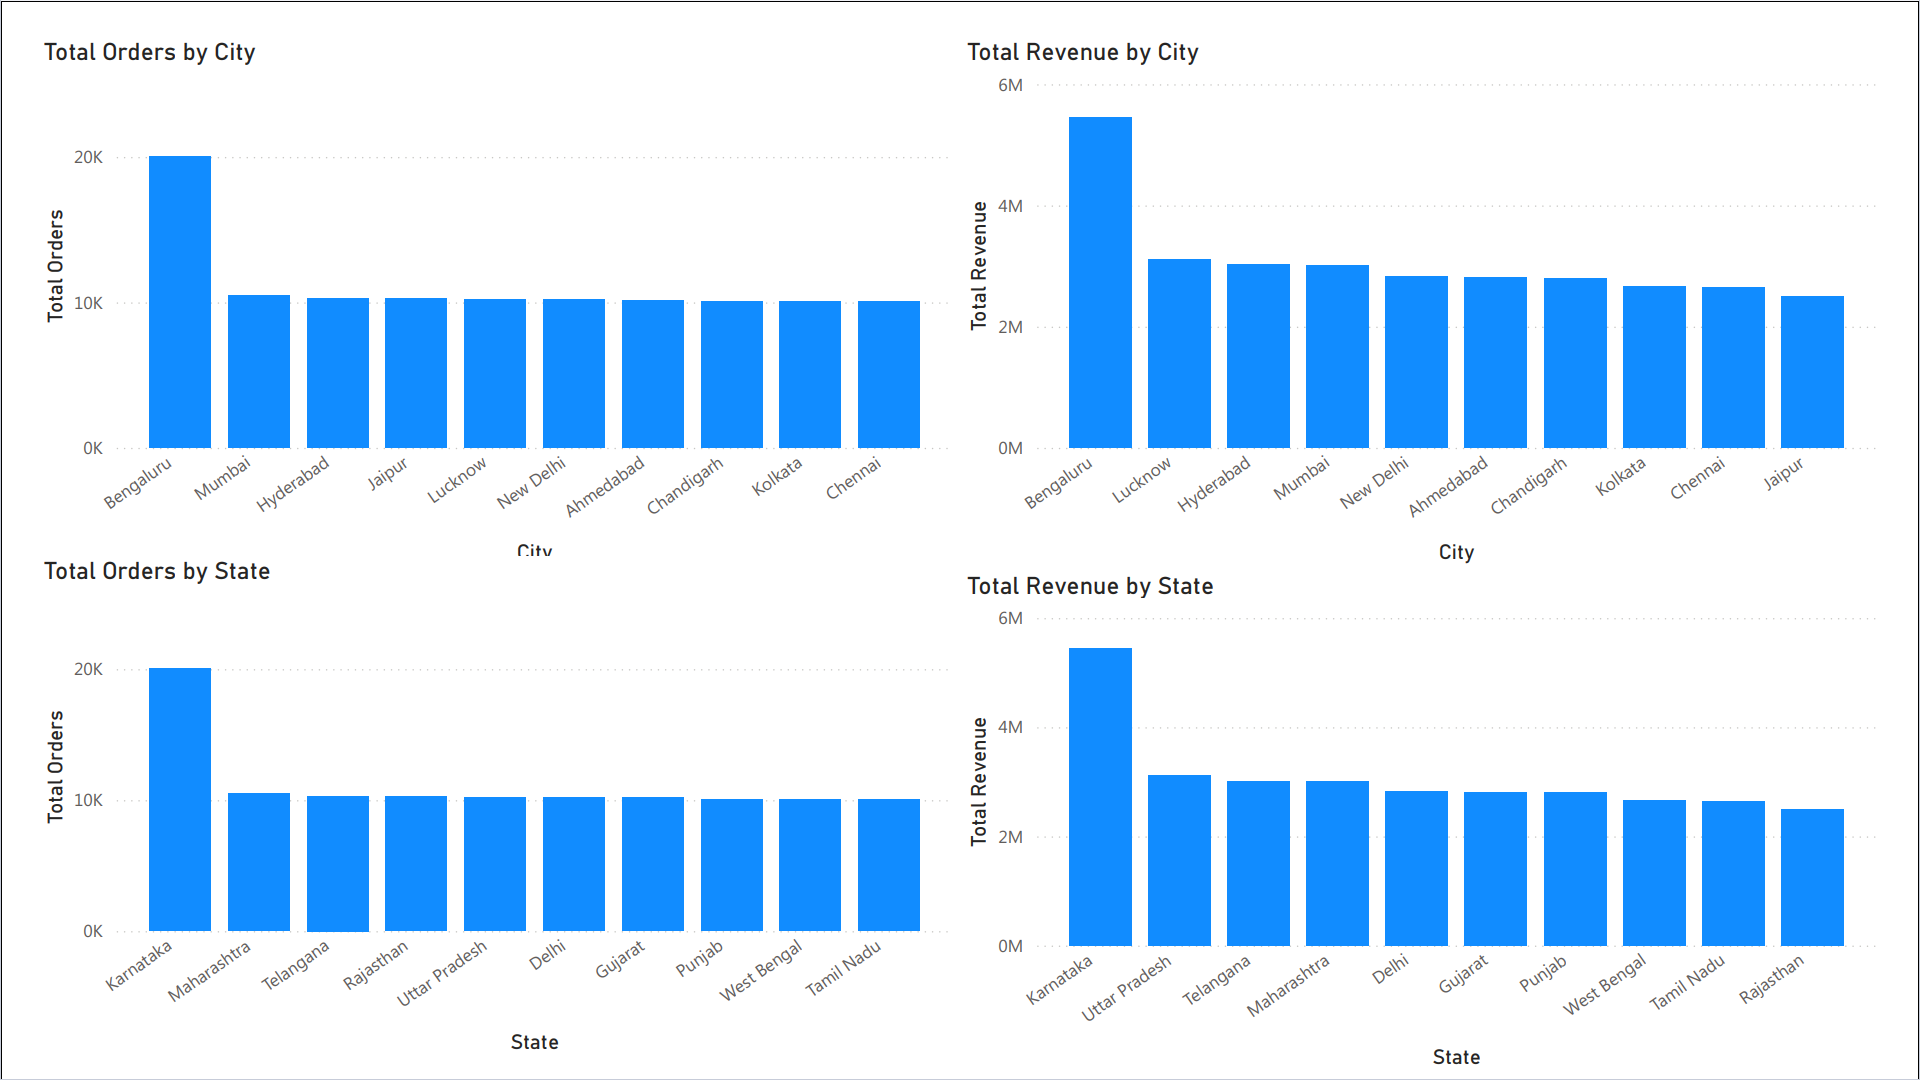

The page's visual inventory and layout, read from the dashboard file:
{"tool":"powerbi","page":{"name":"Location Analysis","canvas":[1280,720],"ordinal":1},"visuals":[{"type":"clusteredColumnChart","fields":{"Category":["City_wise_trends.city"],"Y":["Sum(City_wise_trends.City-wise Total Orders)"]},"box":[0,0,640,369.6],"z":0},{"type":"clusteredColumnChart","fields":{"Category":["City_wise_trends.city"],"Y":["Sum(City_wise_trends.City-wise Total Revenue)"]},"box":[640,0,640,369.6],"z":1000},{"type":"clusteredColumnChart","fields":{"Category":["state_wise_trends.state"],"Y":["Sum(state_wise_trends.State-wise Total Orders)"]},"box":[0,359.9,640,350.2],"z":2000},{"type":"clusteredColumnChart","fields":{"Category":["state_wise_trends.state"],"Y":["Sum(state_wise_trends.State-wise Total Revenue)"]},"box":[640,369.6,640,350.2],"z":3000}]}

Visuals, with their boxes in screenshot pixels (x1, y1, x2, y2), scaled from the page's 1280x720 canvas onto the 1920x1080 screenshot:
clusteredColumnChart - City_wise_trends.city x Sum(City_wise_trends.City-wise Total Orders): region(0, 0, 960, 554)
clusteredColumnChart - City_wise_trends.city x Sum(City_wise_trends.City-wise Total Revenue): region(960, 0, 1919, 554)
clusteredColumnChart - state_wise_trends.state x Sum(state_wise_trends.State-wise Total Orders): region(0, 540, 960, 1065)
clusteredColumnChart - state_wise_trends.state x Sum(state_wise_trends.State-wise Total Revenue): region(960, 554, 1919, 1079)
